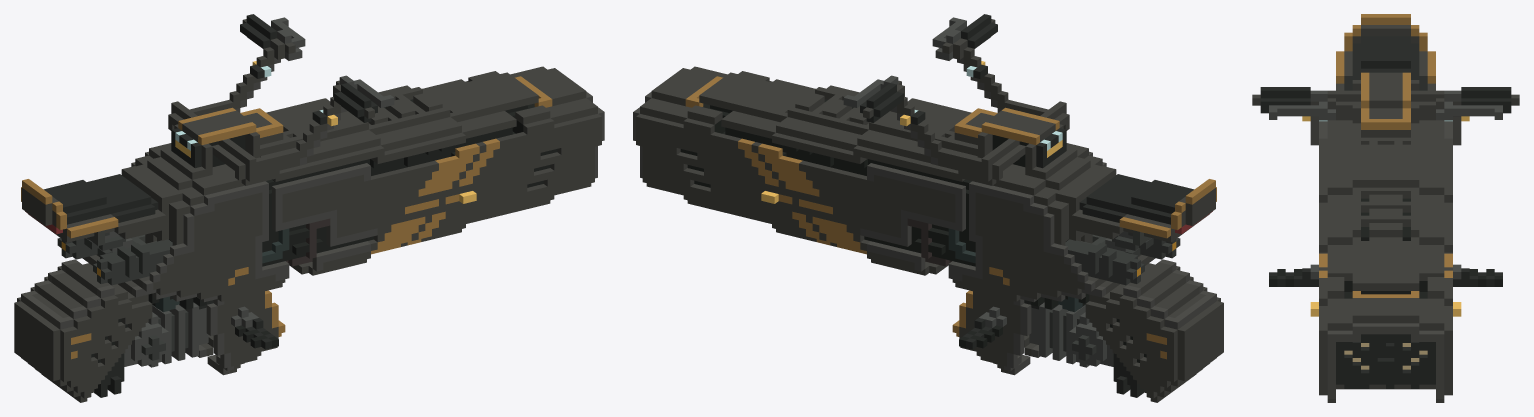
File: Gun_Bike.glb
3 views of the same model, side by side, from view 1: azimuth 30°, elevation 25°; view 2: azimuth 150°, elevation 25°; view 3: azimuth 270°, elevation 25° (orthographic). The views are drawn at different scales.
Parts seen in each view (by area): view 1: GunBike; view 2: GunBike; view 3: GunBike.
Boxes of the visible parts, x1,y1,x2,y2 form: GunBike: (14, 14, 604, 402); GunBike: (633, 14, 1223, 402); GunBike: (1252, 14, 1519, 402).
Size of the model in its own units: 8 by 3.9 by 3.2.
Materials: 1 (1 with a texture image).
